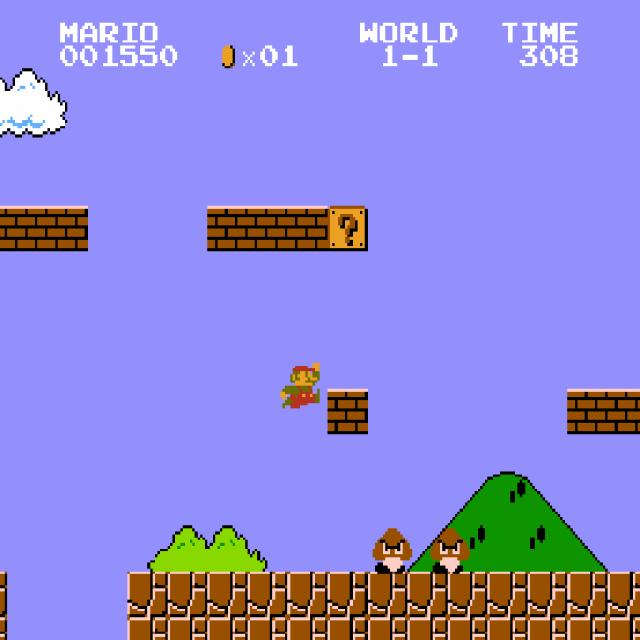brick_block: (7, 206, 48, 251), (47, 206, 88, 251), (207, 206, 248, 251), (247, 206, 288, 251), (287, 206, 328, 251), (327, 389, 368, 434), (567, 389, 608, 434), (607, 388, 640, 434), (0, 206, 7, 251)
goomba: (427, 526, 470, 574), (370, 526, 412, 574)
little_mario: (277, 360, 320, 408)
mystery_block: (327, 206, 368, 251)
undestructible_block: (127, 572, 168, 617), (167, 572, 208, 617), (207, 572, 248, 617), (247, 572, 288, 617), (287, 572, 328, 617), (327, 572, 368, 617), (367, 572, 408, 617), (407, 572, 448, 617), (447, 572, 488, 617), (487, 572, 528, 617), (527, 572, 568, 617), (567, 572, 608, 617), (607, 571, 640, 617), (127, 617, 168, 640), (167, 617, 208, 640), (207, 617, 248, 640), (247, 617, 288, 640), (287, 617, 328, 640), (327, 617, 368, 640), (367, 617, 408, 640), (407, 617, 448, 640), (447, 617, 488, 640), (487, 617, 528, 640), (527, 617, 568, 640), (567, 617, 608, 640), (607, 617, 640, 639), (0, 572, 7, 617), (0, 617, 7, 640)
